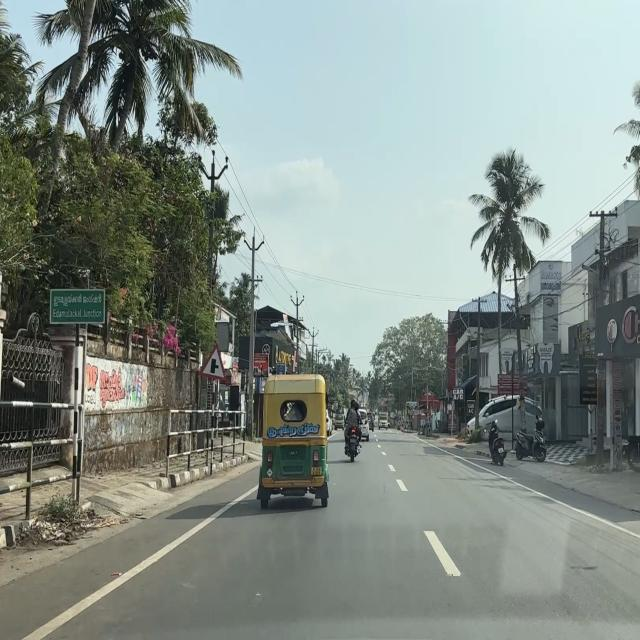GENERAL: (48, 287, 106, 325)
SIDE_ROAD_RIGHT: (199, 343, 228, 382)
